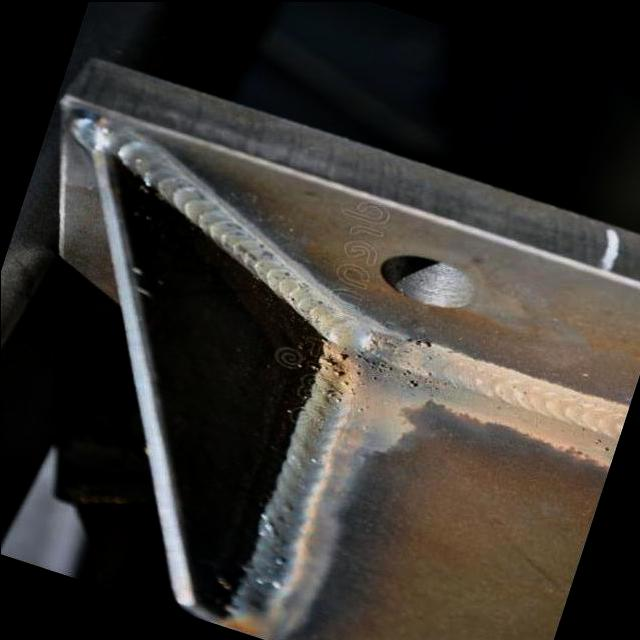defect: (320, 347, 394, 416), (398, 334, 440, 351), (399, 365, 419, 389)
